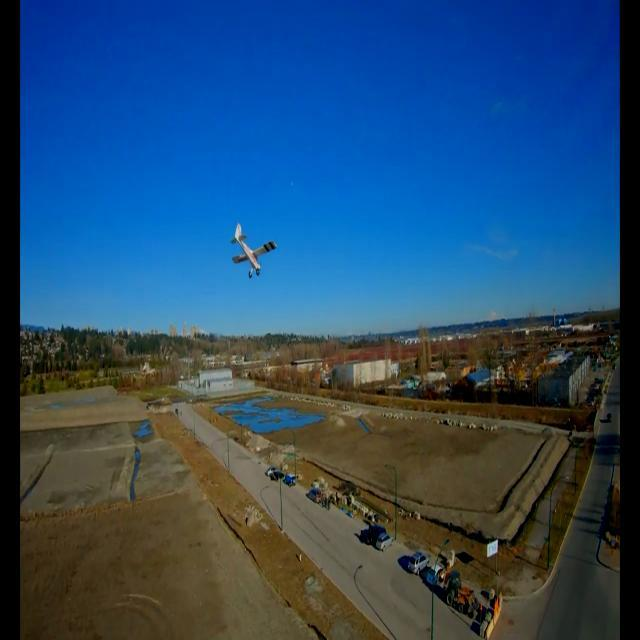iha: (225, 247, 278, 249)
